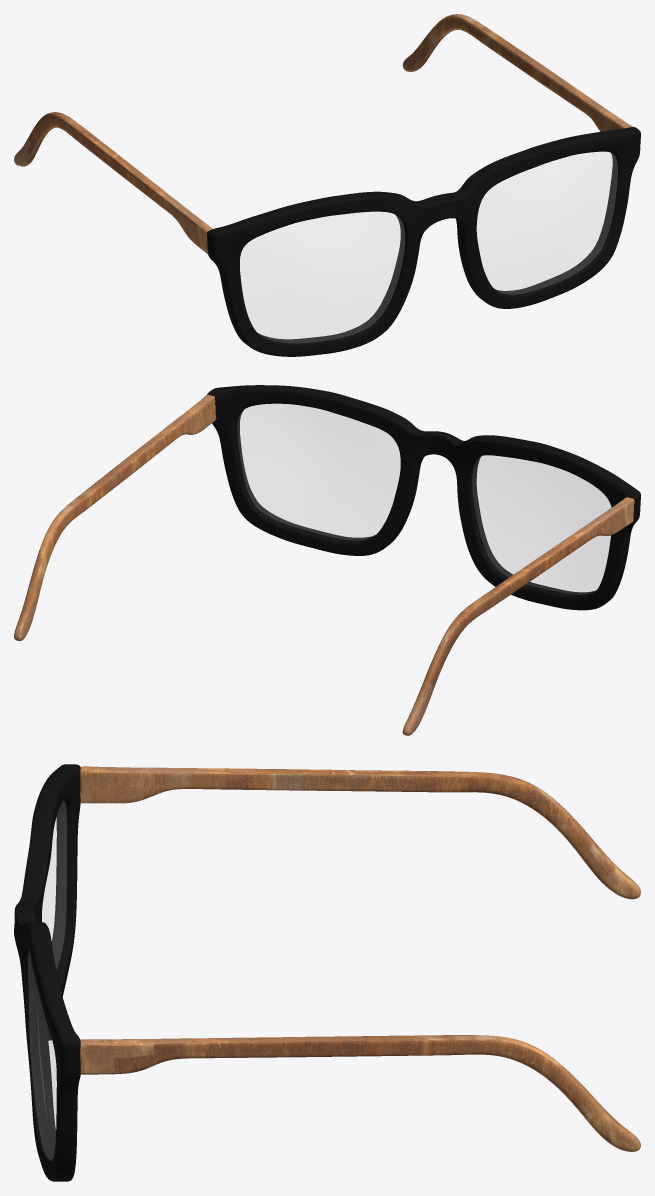
Rendered from glasses.glb.
3 views of the same model, one above another, from view 1: azimuth 30°, elevation 25°; view 2: azimuth 150°, elevation 25°; view 3: azimuth 270°, elevation 25° (orthographic). The views are drawn at different scales.
Visible parts, largest first — view 1: Glasses_3, Frame_1, Handles_2; view 2: Glasses_3, Frame_1, Handles_2; view 3: Handles_2, Frame_1, Glasses_3.
Part boxes in pixels (bbox=[...]): Glasses_3: bbox=[240, 152, 617, 342]; Frame_1: bbox=[207, 127, 640, 356]; Handles_2: bbox=[14, 14, 632, 254]; Glasses_3: bbox=[237, 404, 610, 594]; Frame_1: bbox=[207, 385, 640, 610]; Handles_2: bbox=[14, 394, 634, 735]; Handles_2: bbox=[80, 766, 640, 1151]; Frame_1: bbox=[14, 764, 80, 1181]; Glasses_3: bbox=[28, 801, 66, 1160].
Bounding box in the file's own units: 1.41 × 0.4825 × 1.33.
Materials: 3 (1 with a texture image).
